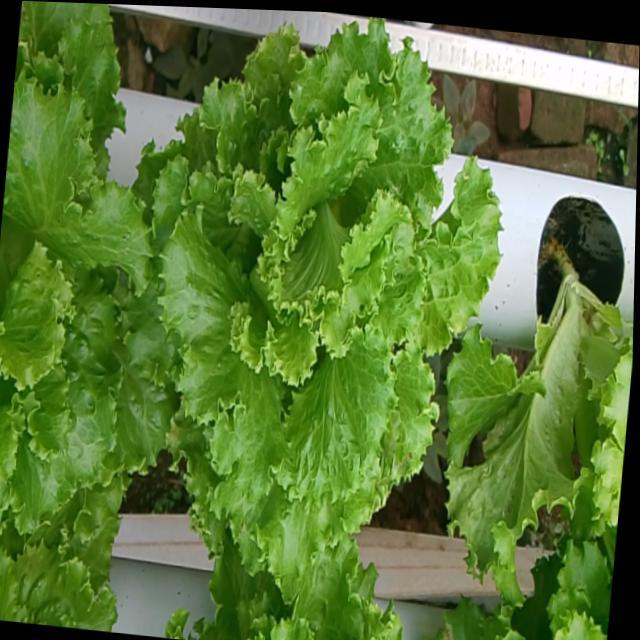Mature: (156, 21, 505, 579), (0, 64, 176, 530)
